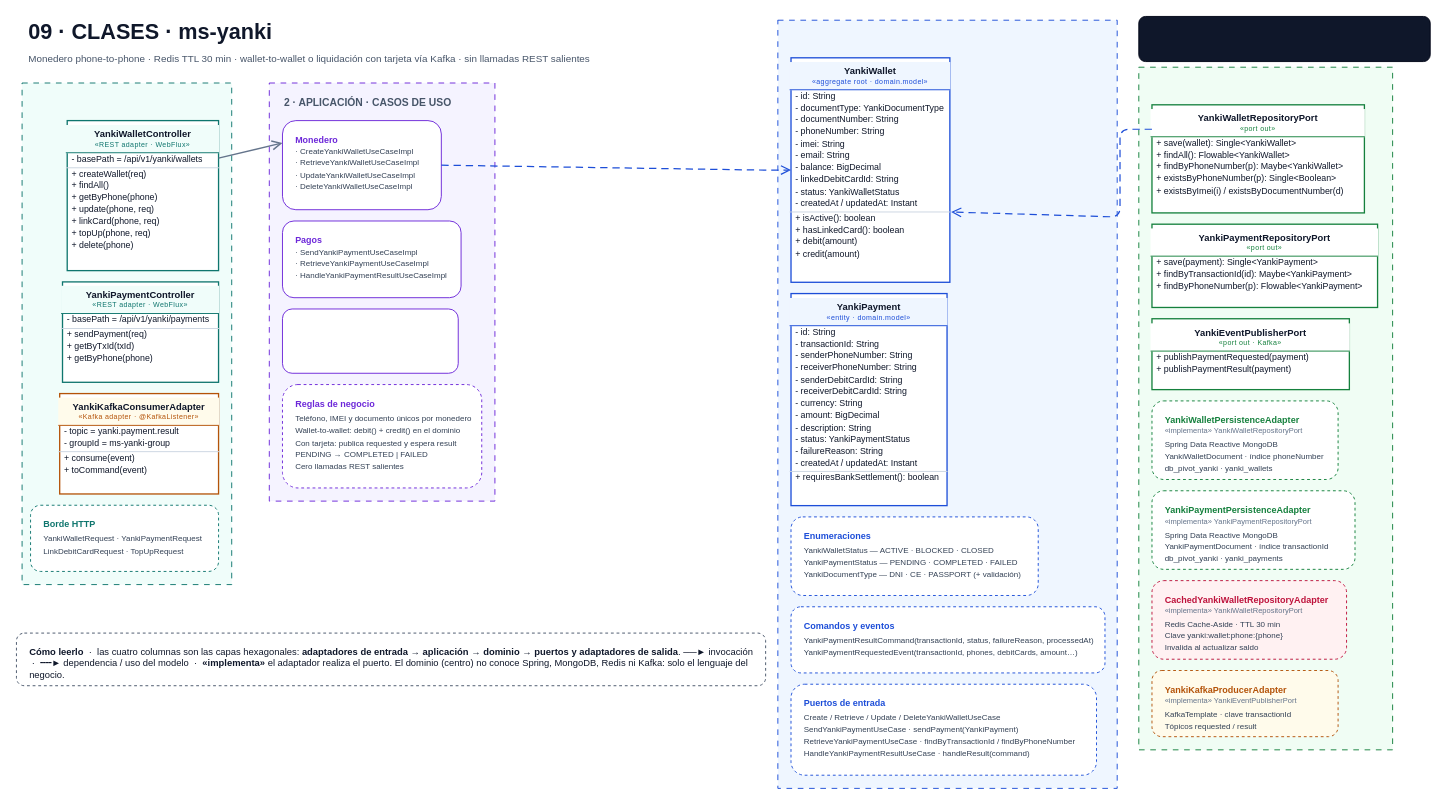
Some shapes in this 1447 by 806 pixel diagram are drawn without their labels. Each missing label, with the box of its shape:
1 · ADAPTADORES DE ENTRADA: (21, 82, 232, 585)
3 · DOMINIO · MODELO Y PUERTOS DE ENTRADA: (777, 19, 1117, 788)
4 · PUERTOS DE SALIDA Y ADAPTADORES: (1138, 66, 1393, 750)
FASE III · PROYECTO FINAL Diagrama de clases · UML 2.5: (1138, 16, 1430, 62)
Soporte · YankiPaymentFactory · YankiWalletDomainInitializer: (282, 308, 458, 373)
